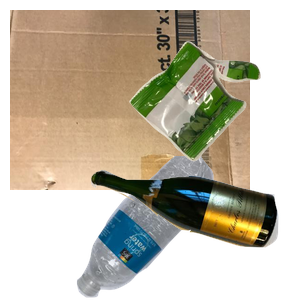cardboard: (10, 10, 250, 190)
glass: (88, 167, 300, 300)
plastic: (74, 156, 280, 300)
trash: (127, 39, 300, 193)
